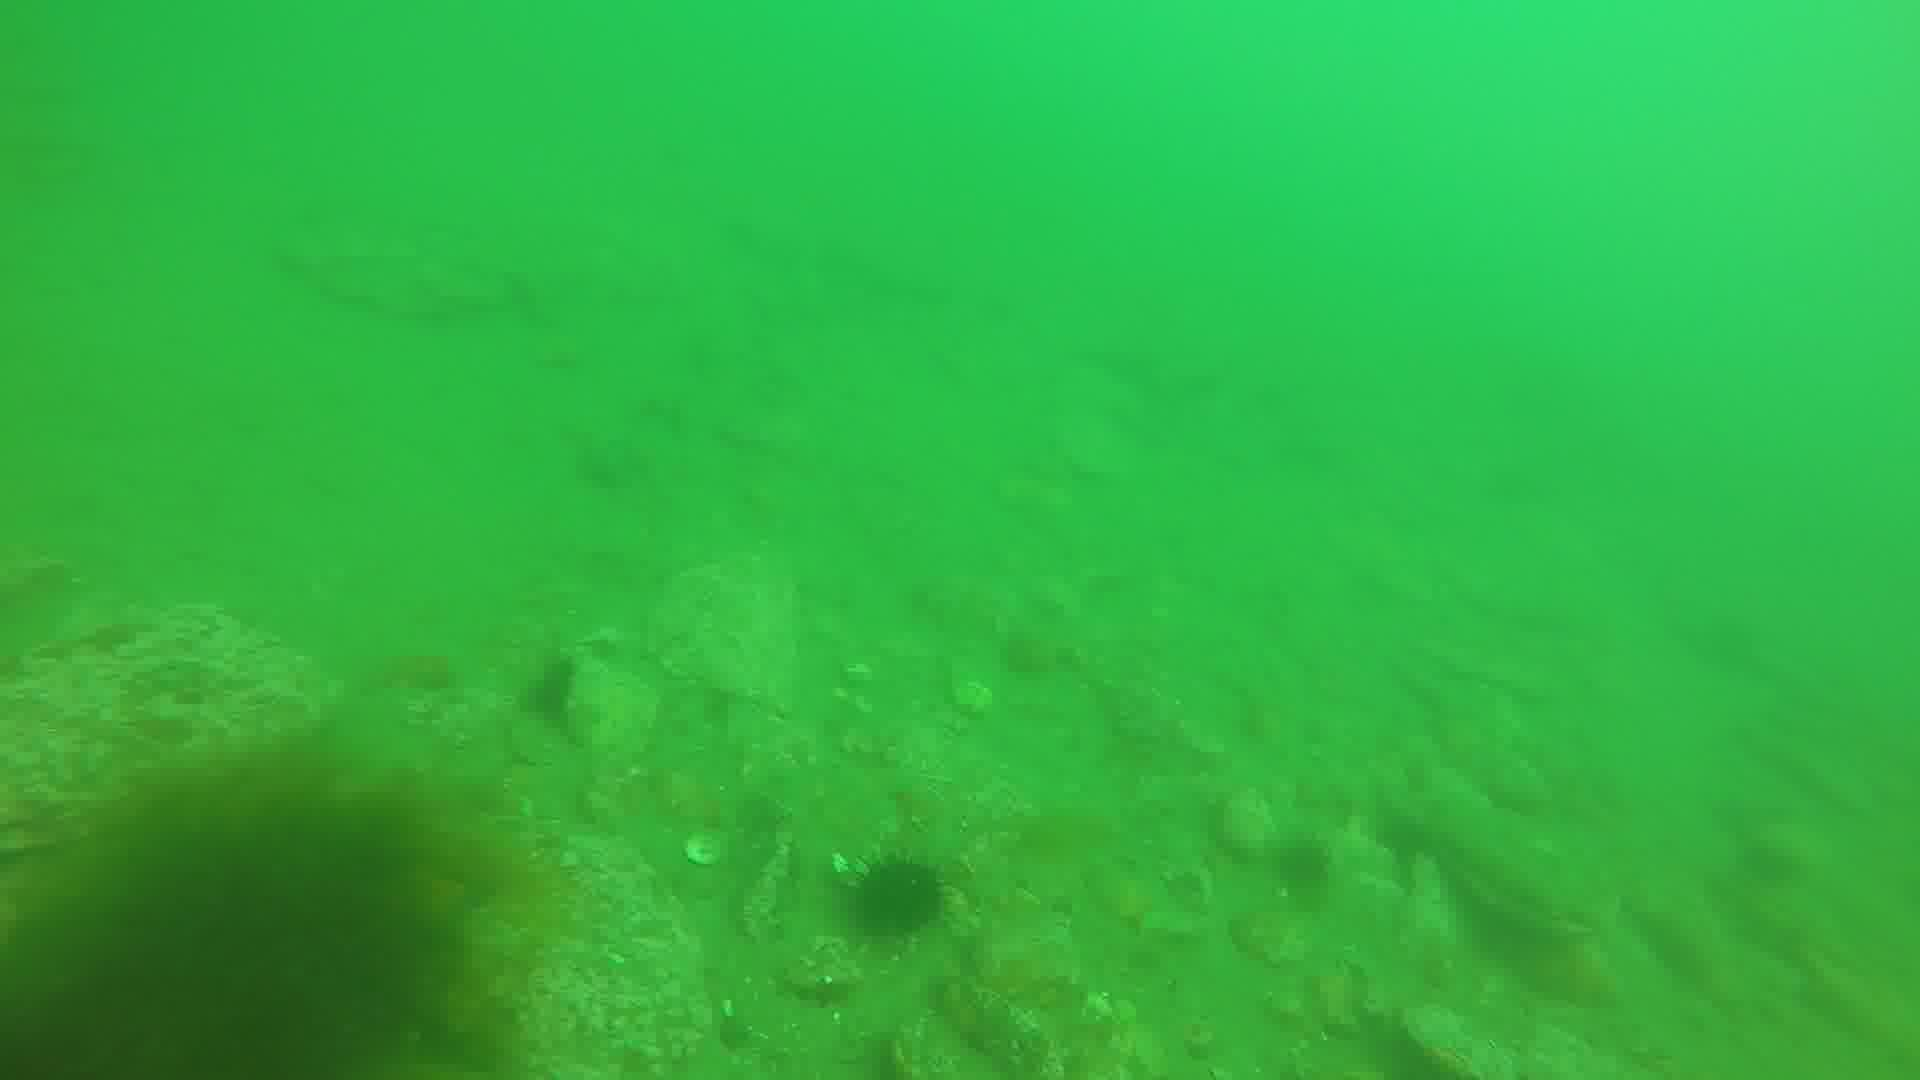echinus: (851, 855, 949, 944), (1274, 833, 1342, 897)
